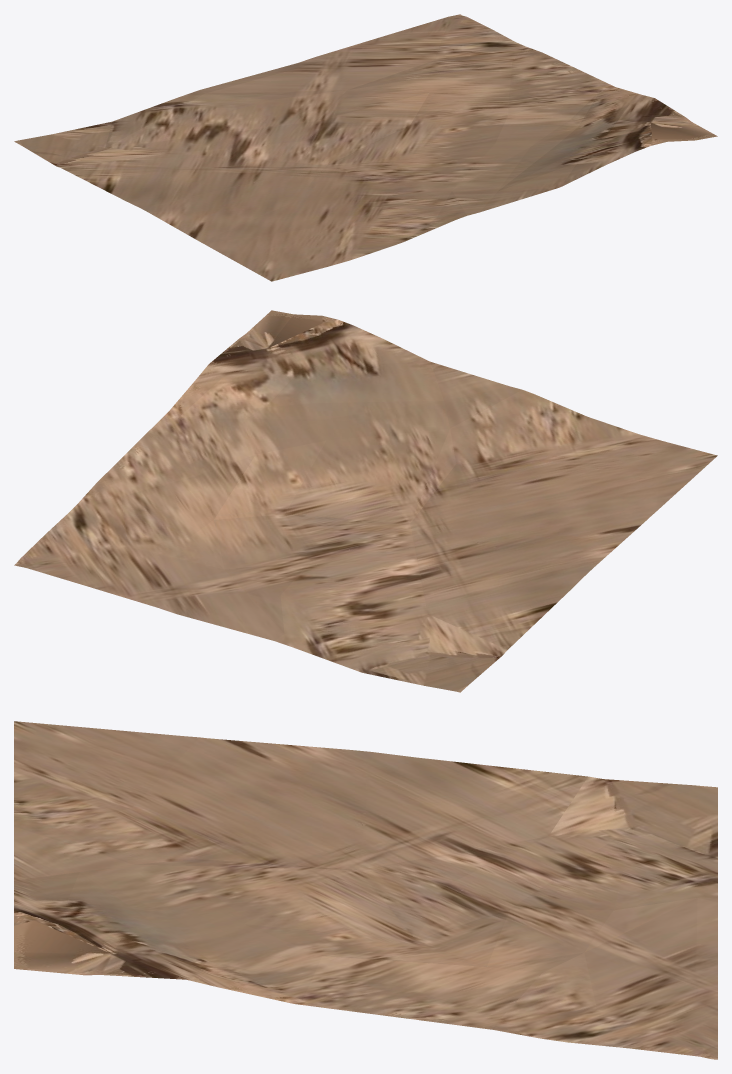
3 views of the same model, one above another, from view 1: azimuth 30°, elevation 25°; view 2: azimuth 150°, elevation 25°; view 3: azimuth 270°, elevation 25° (orthographic). The views are drawn at different scales.
Bounding box in the file's own units: 2.09 × 0.4286 × 2.09.
Materials: 3 (3 with a texture image).
